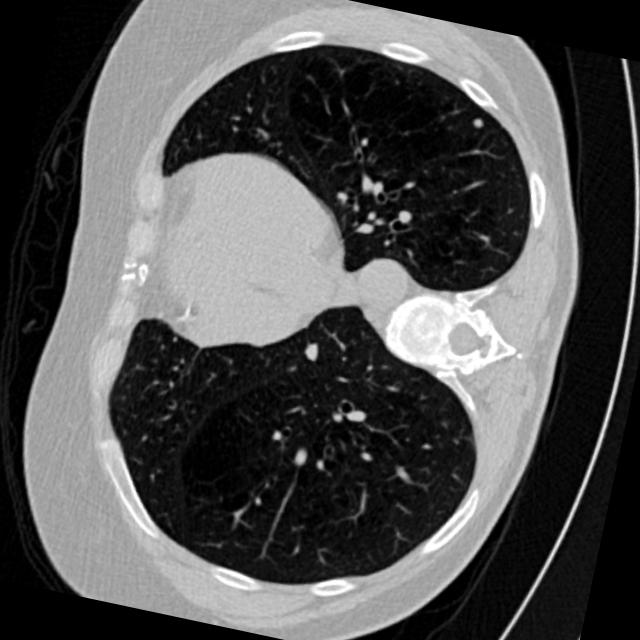nodule: (462, 108, 492, 138)
